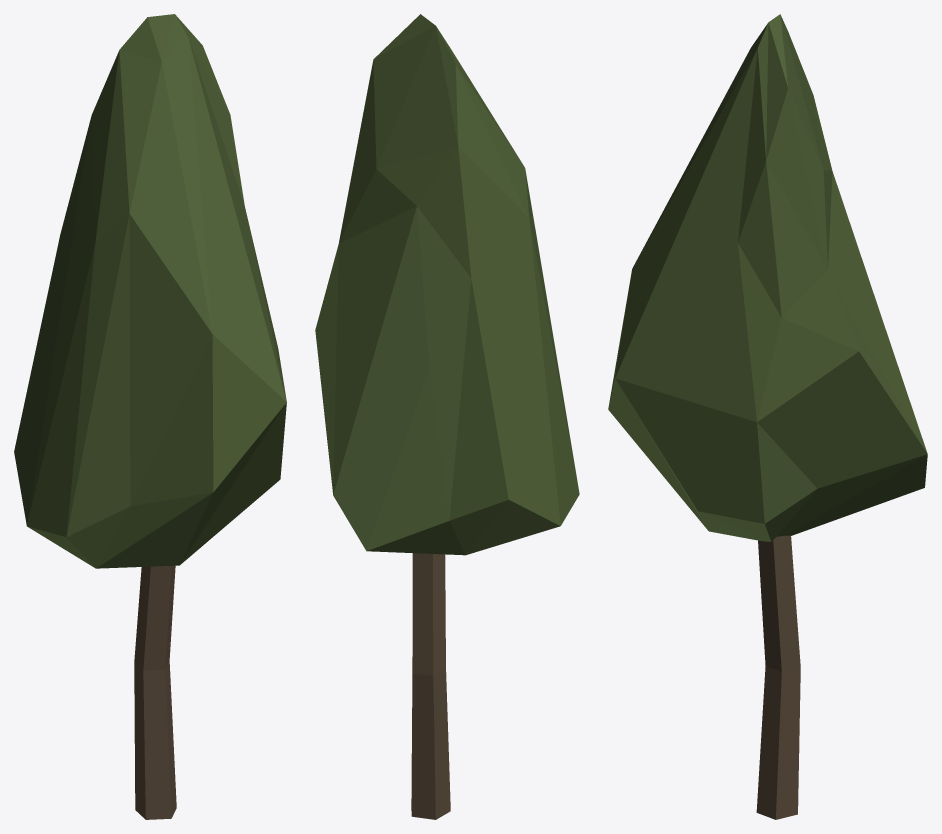
File: tree_76.fbx
3 renders of one model, left to right at view 1: azimuth 30°, elevation 25°; view 2: azimuth 150°, elevation 25°; view 3: azimuth 270°, elevation 25°, orthographic.
Parts seen in each view (by area): view 1: tree_076; view 2: tree_076; view 3: tree_076.
Part boxes in pixels (x1,y1,x2,y2): tree_076: (14, 14, 286, 819); tree_076: (315, 14, 579, 819); tree_076: (608, 14, 927, 819).
Size of the model in its own units: 0.6606 by 2.08 by 0.757.
Materials: 1 (1 with a texture image).
